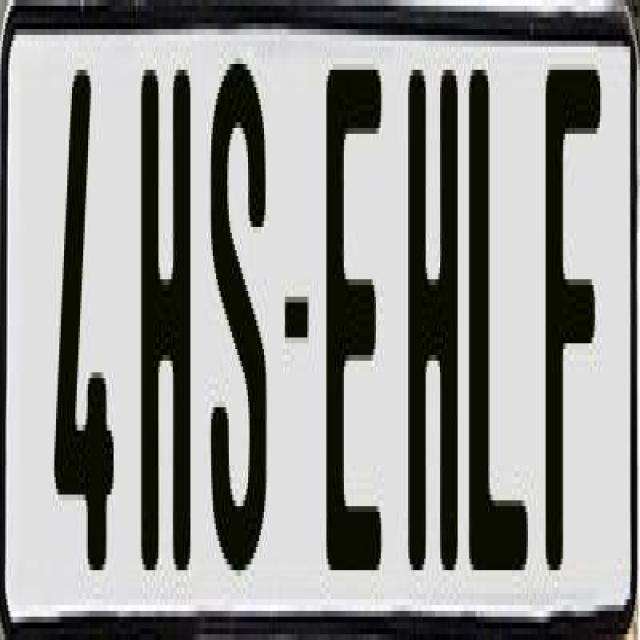4: (51, 70, 110, 576)
E: (323, 58, 382, 588)
F: (544, 58, 598, 564)
H: (141, 52, 197, 576), (404, 58, 458, 588)
L: (464, 70, 531, 594)
S: (211, 52, 267, 576)
